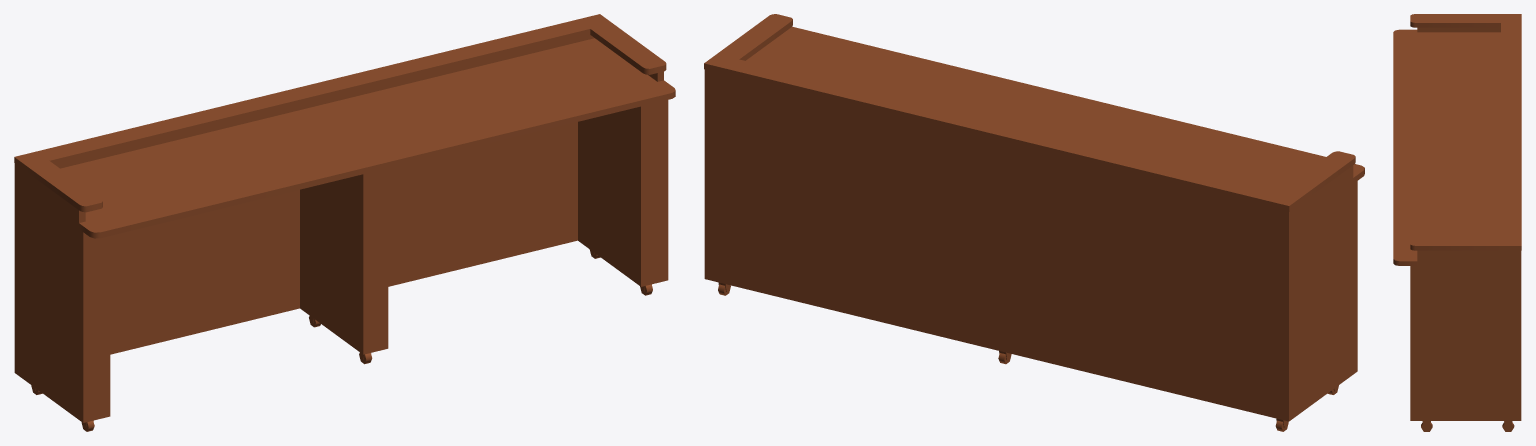
Rendered from nurse_table.dae.
3 renders of one model, left to right at view 1: azimuth 30°, elevation 25°; view 2: azimuth 150°, elevation 25°; view 3: azimuth 270°, elevation 25°, orthographic. The views are drawn at different scales.
Visible parts, largest first — view 1: NurseTable_Cube.005; view 2: NurseTable_Cube.005; view 3: NurseTable_Cube.005.
Part boxes in pixels (<box>): NurseTable_Cube.005: <box>14,14,675,431</box>; NurseTable_Cube.005: <box>704,14,1364,431</box>; NurseTable_Cube.005: <box>1393,14,1521,431</box>.
Size of the model in its own units: 2.46 by 0.5775 by 0.9396.
